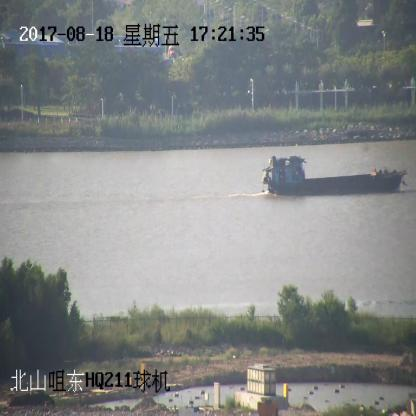Bulk Carrier: (263, 157, 408, 197)
